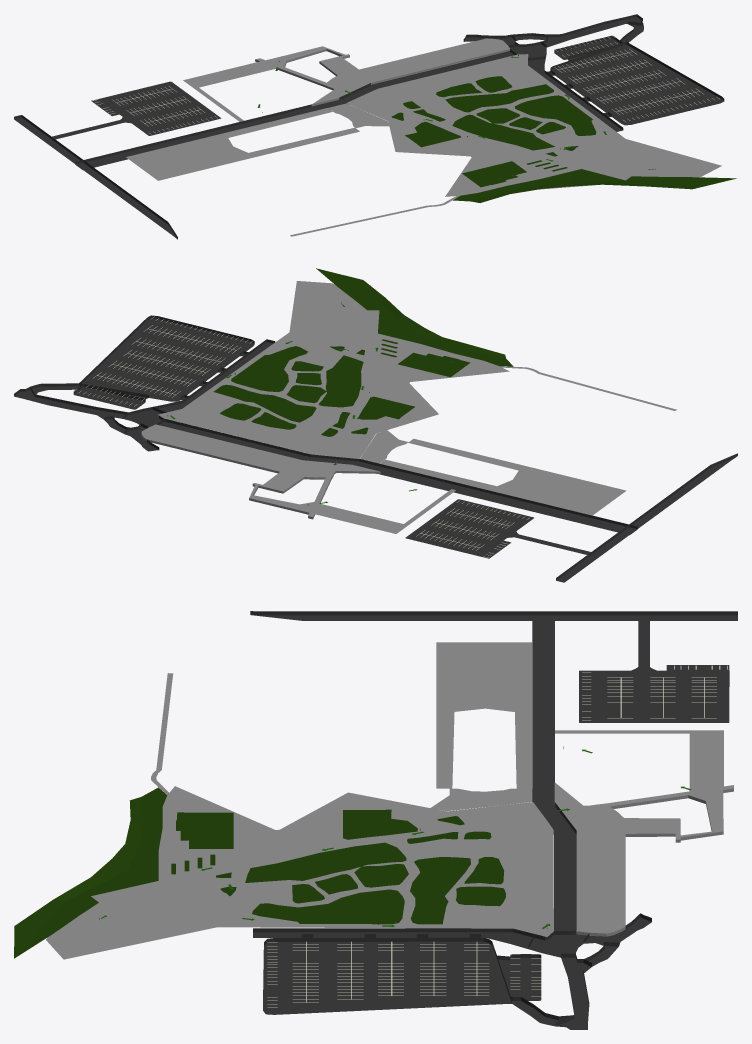
The model's file is ScaledJFloors.glb.
3 renders of one model, top to bottom at view 1: azimuth 30°, elevation 25°; view 2: azimuth 150°, elevation 25°; view 3: azimuth 270°, elevation 25°, orthographic. The views are drawn at different scales.
Parts seen in each view (by area): view 1: Paths, Roads, green, ParkingPaint; view 2: Paths, Roads, green, ParkingPaint; view 3: Paths, Roads, green, ParkingPaint.
Part boxes in pixels (x1,y1,x2,y2): Paths: (126, 38, 721, 236); Roads: (14, 14, 724, 239); green: (391, 76, 736, 202); ParkingPaint: (92, 35, 719, 134); Paths: (141, 281, 676, 533); Roads: (14, 315, 737, 582); green: (213, 268, 513, 436); ParkingPaint: (74, 316, 529, 557); Paths: (46, 642, 733, 959); Roads: (250, 611, 737, 1029); green: (14, 787, 505, 958); ParkingPaint: (267, 665, 727, 1007).
Bounding box in the file's own units: 428 × 3 × 316.
